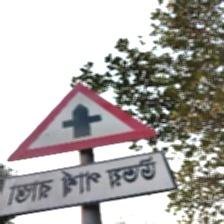Crossroad: (3, 82, 170, 222)
